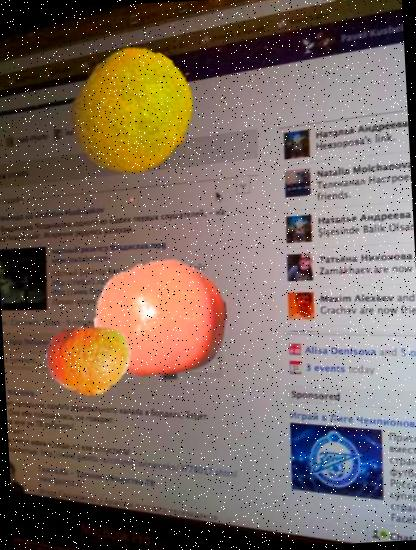Cantaloupe: (68, 45, 203, 180)
Clementine: (91, 251, 231, 391)
Mandarine: (43, 315, 134, 404)
